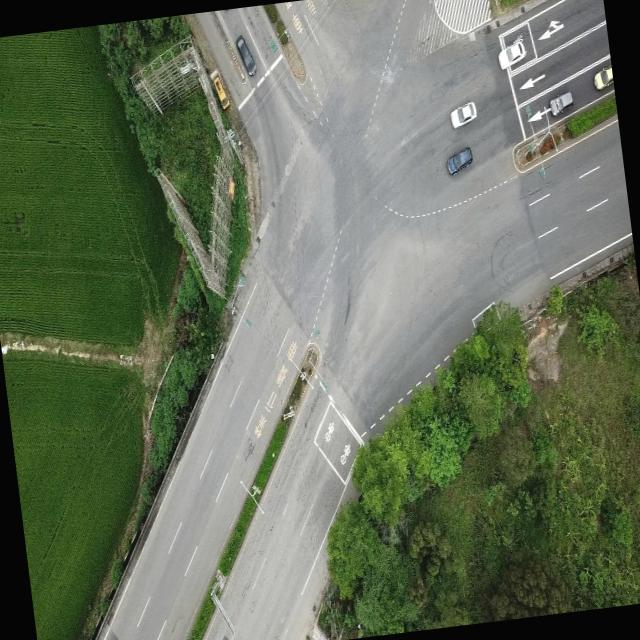car: (495, 37, 528, 71), (444, 144, 474, 176), (236, 32, 256, 77), (448, 100, 477, 128), (548, 90, 576, 118), (592, 61, 614, 91)
